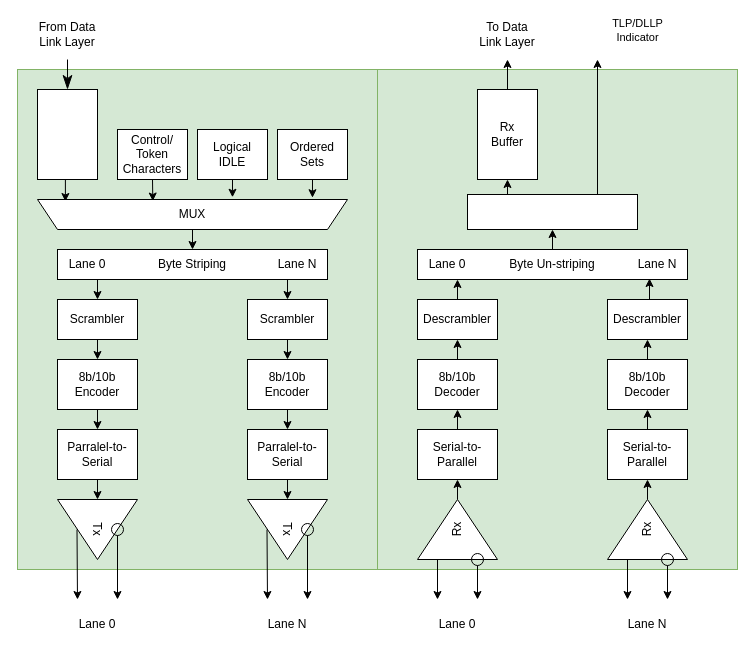
This 755x657 diagram has some shape labels left out. The shapes that lost their labels are listed below. From the top down, each one's centre as x and y in pixels, then its label:
[67,134]: Tx Buffer
[552,212]: Packet Filtering
